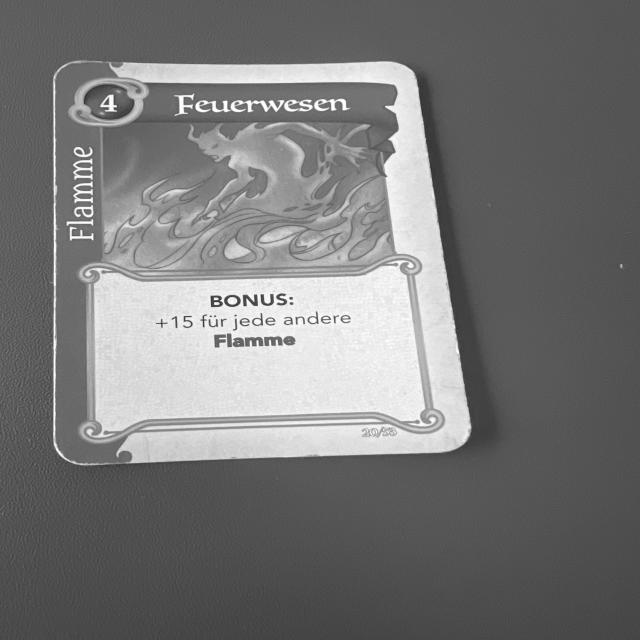Fire Elemental: (49, 60, 477, 465)
